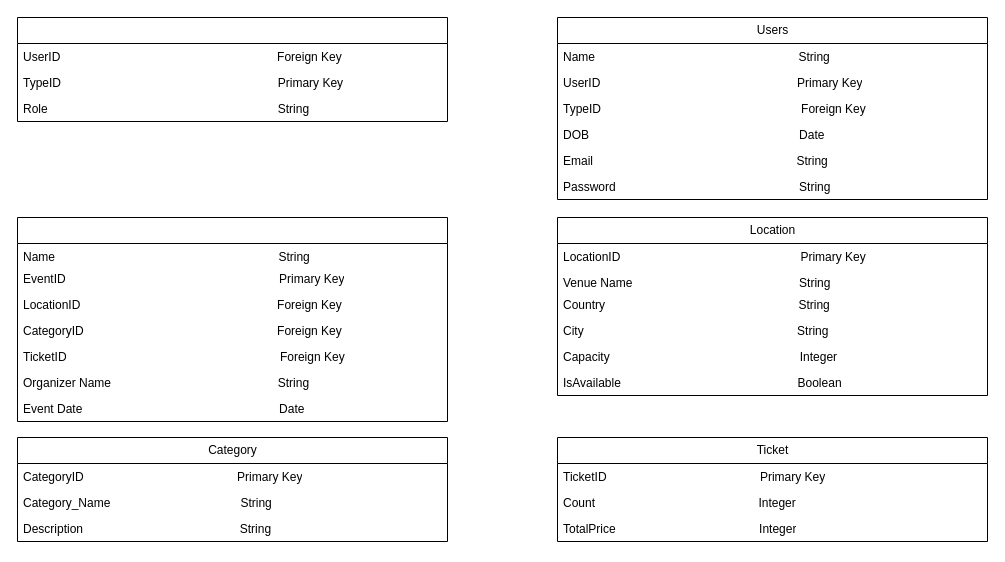
Image size: 1005x562. Some labels were removed from this diagram. The box of each missing label's shape, as (x1, y1, x2, y2) in pixels:
Events: (16, 216, 448, 422)
User Type: (16, 16, 448, 122)
